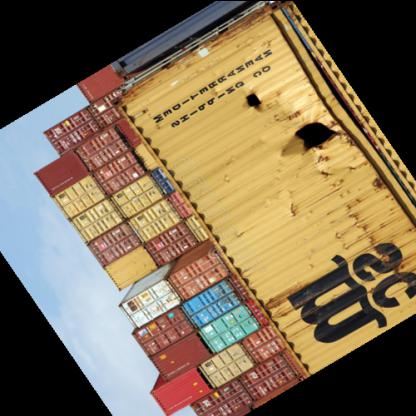Damage: (317, 174, 400, 268), (289, 110, 355, 176), (224, 89, 274, 116)
